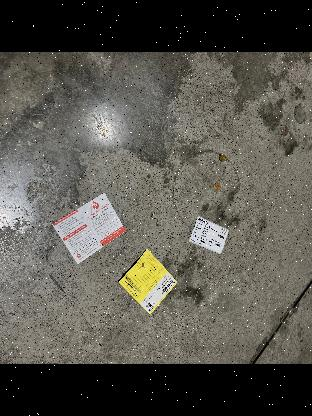Others: (52, 192, 122, 264), (114, 246, 176, 318), (185, 215, 235, 259)
